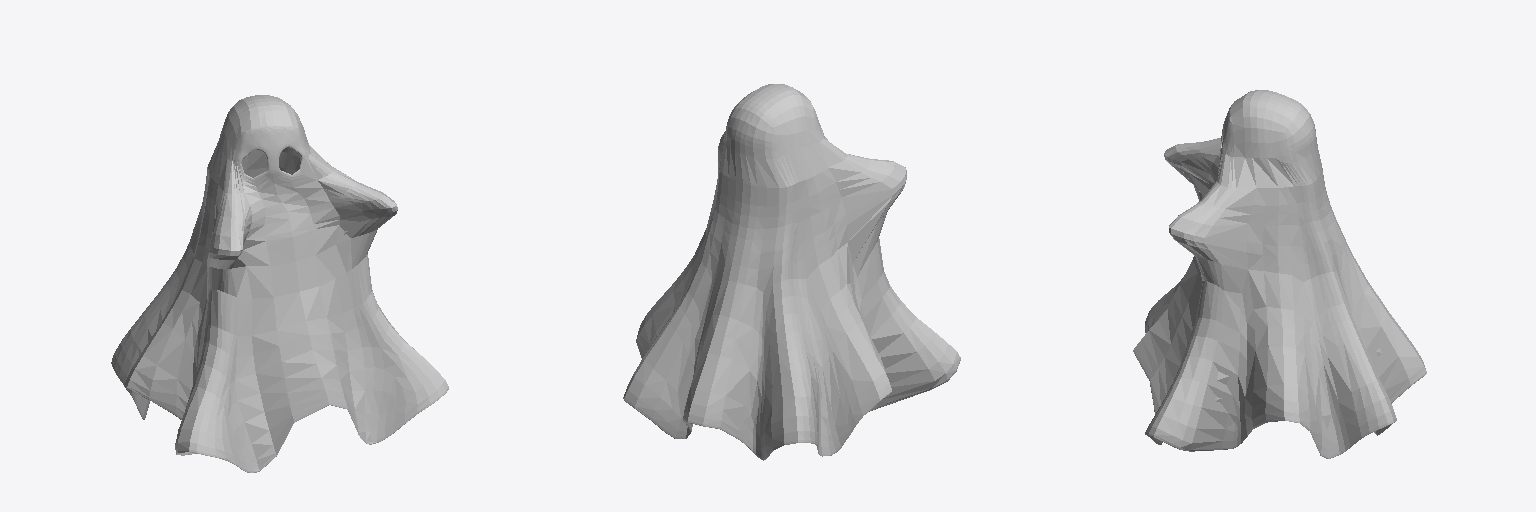
The picture shows the model from 3 angles: view 1: azimuth 30°, elevation 25°; view 2: azimuth 150°, elevation 25°; view 3: azimuth 270°, elevation 25°; orthographic projection.
Visible parts, largest first — view 1: youlinguu2:Group3 walk1; view 2: youlinguu2:Group3 walk1; view 3: youlinguu2:Group3 walk1.
Boxes of the visible parts, <box> form: youlinguu2:Group3 walk1: <box>111,95,448,472</box>; youlinguu2:Group3 walk1: <box>623,84,960,460</box>; youlinguu2:Group3 walk1: <box>1133,90,1426,458</box>.
Size of the model in its own units: 34.29 by 39.55 by 32.8.